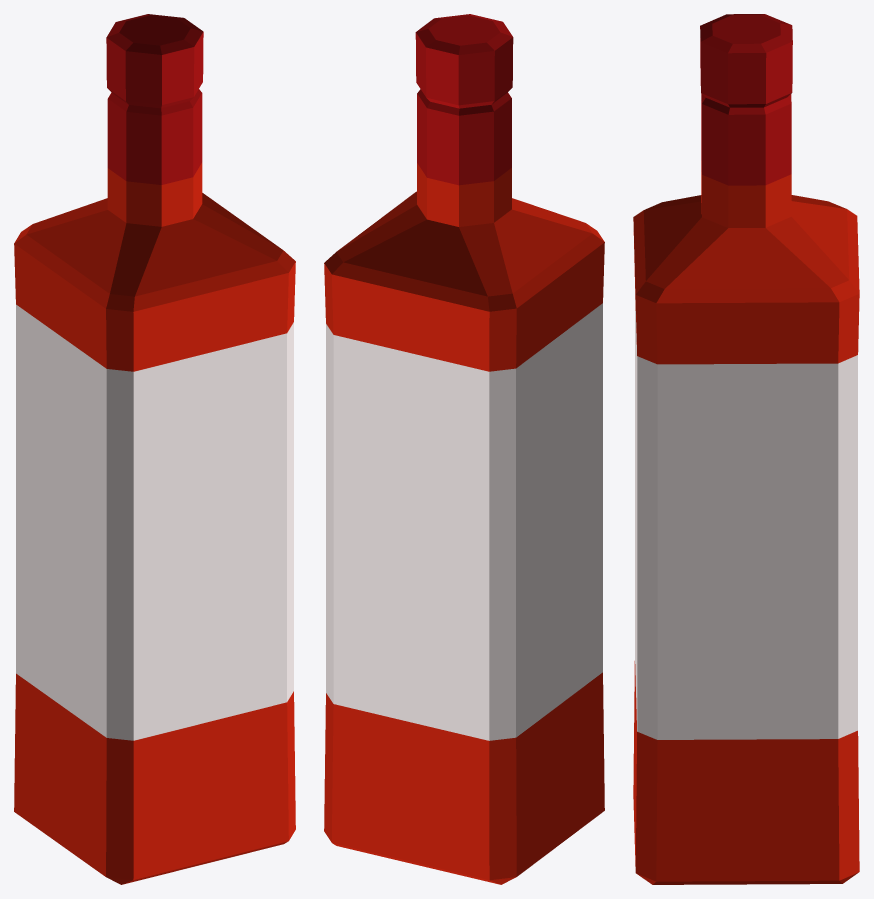
Rendered from Wine 29.fbx.
The picture shows the model from 3 angles, left to right: view 1: azimuth 30°, elevation 25°; view 2: azimuth 150°, elevation 25°; view 3: azimuth 270°, elevation 25°; orthographic projection.
Visible parts, largest first — view 1: Node 0; view 2: Node 0; view 3: Node 0.
Boxes of the visible parts, x1=… form: Node 0: x1=14, y1=14, x2=295, y2=884; Node 0: x1=324, y1=14, x2=604, y2=884; Node 0: x1=633, y1=14, x2=859, y2=884.
Bounding box in the file's own units: 0.0703 × 0.2793 × 0.0706.
